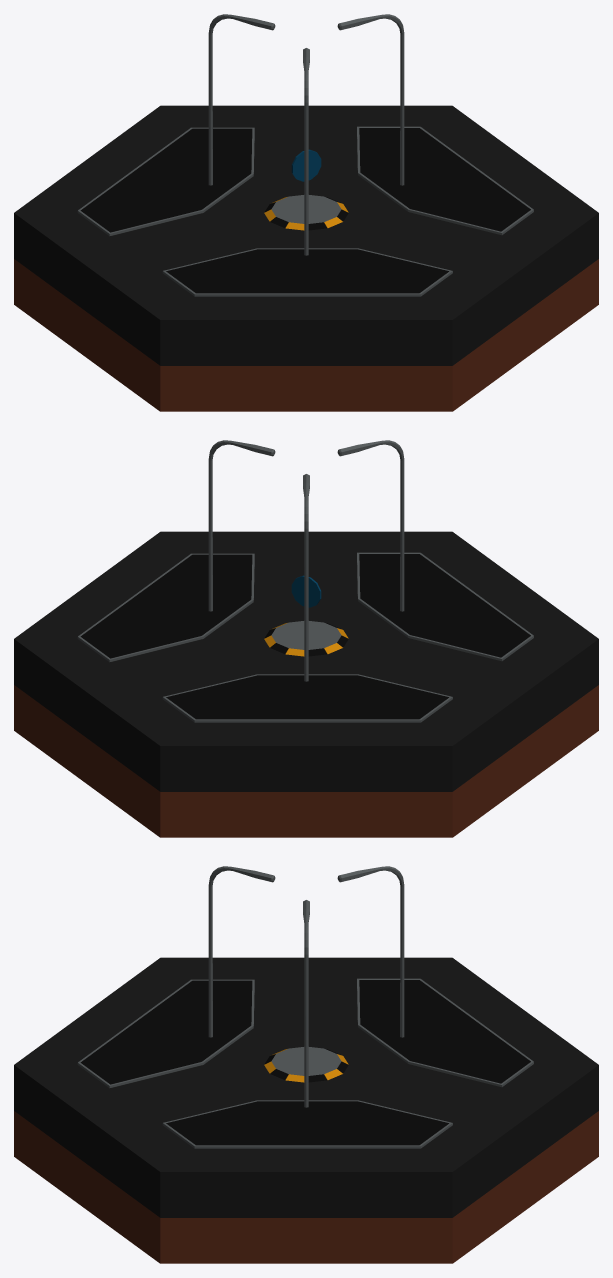
File: SM_Roundabout.FBX
3 views of the same model, one above another, from view 1: azimuth 30°, elevation 25°; view 2: azimuth 150°, elevation 25°; view 3: azimuth 270°, elevation 25° (orthographic).
Visible parts, largest first — view 1: SM_Roundabout; view 2: SM_Roundabout; view 3: SM_Roundabout.
Part boxes in pixels (x1=…): SM_Roundabout: x1=14, y1=14, x2=598, y2=411; SM_Roundabout: x1=14, y1=440, x2=598, y2=837; SM_Roundabout: x1=14, y1=866, x2=598, y2=1263.
Size of the model in its own units: 100 by 115 by 59.54.
